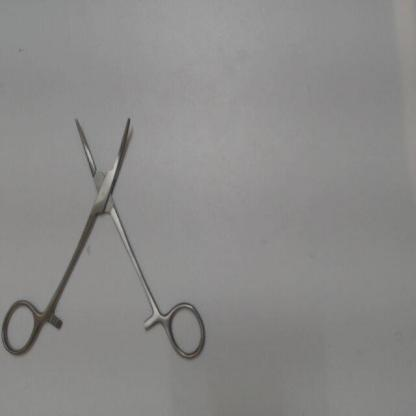Crile Artery Forceps: (2, 107, 209, 370)
